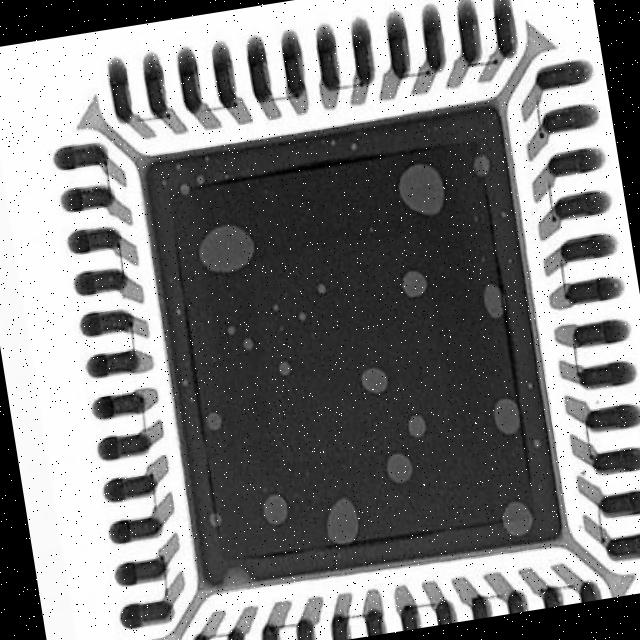chip: (134, 95, 574, 601)
void: (199, 226, 259, 274), (400, 163, 444, 216), (326, 497, 360, 546), (500, 498, 534, 538), (494, 398, 521, 436), (263, 493, 291, 528), (386, 454, 415, 485), (484, 283, 506, 319), (361, 368, 389, 393), (402, 271, 428, 297), (407, 413, 428, 439), (223, 567, 255, 583), (473, 154, 491, 178), (207, 413, 224, 430), (209, 512, 224, 529), (278, 361, 292, 377), (243, 336, 254, 351), (179, 182, 190, 196), (194, 174, 205, 187), (297, 310, 307, 323), (316, 282, 326, 294), (226, 326, 236, 336), (534, 439, 541, 449), (351, 143, 357, 151), (176, 163, 182, 171), (162, 180, 167, 188)
